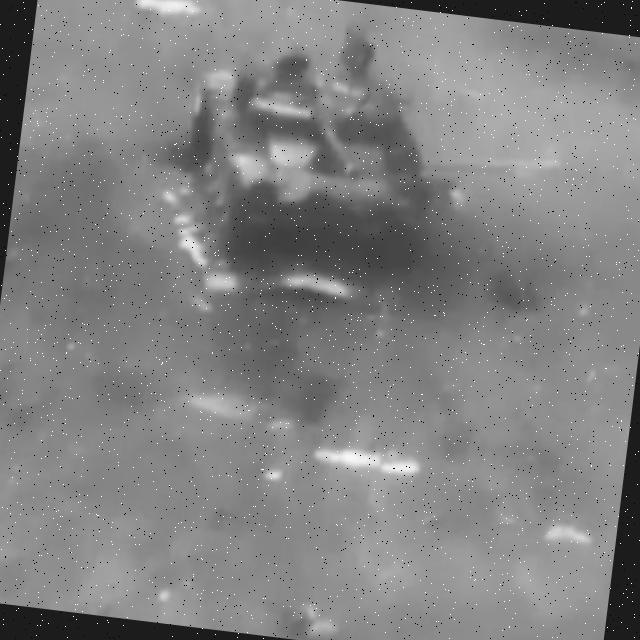MBT: (173, 15, 447, 264)
